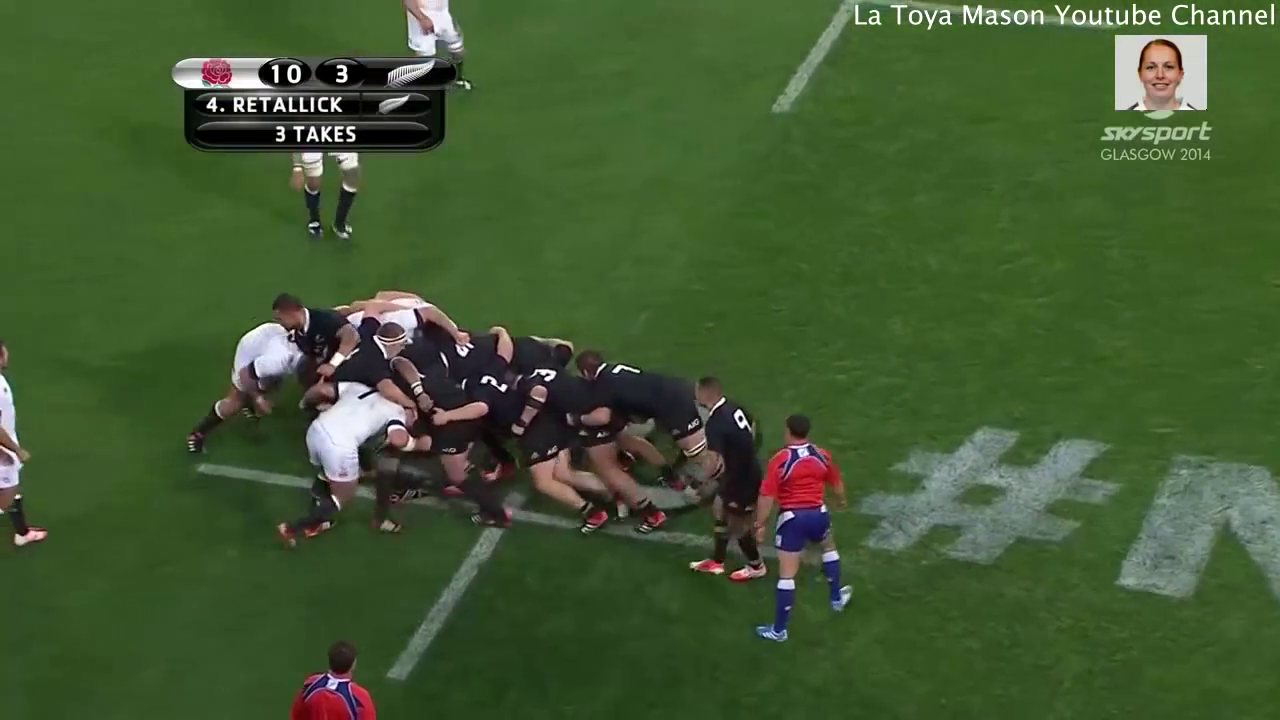maul: (151, 285, 749, 544)
player: (745, 414, 869, 651), (462, 371, 610, 530), (266, 380, 405, 544), (569, 347, 735, 472), (687, 372, 768, 592), (170, 312, 289, 460), (1, 332, 49, 548), (282, 637, 390, 720), (281, 152, 362, 238), (267, 288, 345, 352), (395, 1, 461, 56)
